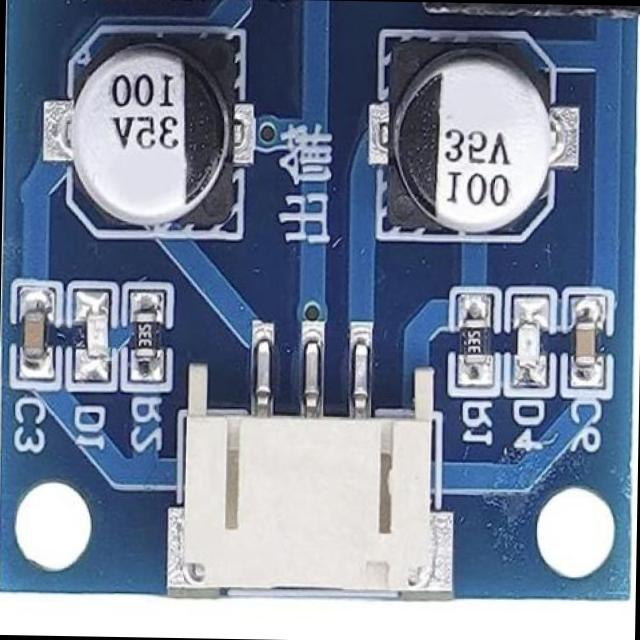LED: (512, 306, 543, 376), (82, 302, 108, 378)
capacitor: (388, 38, 550, 248), (62, 36, 244, 222), (20, 299, 48, 363), (566, 316, 596, 374)
connector: (174, 359, 436, 594)
resistor: (459, 304, 498, 378), (126, 302, 158, 380)
